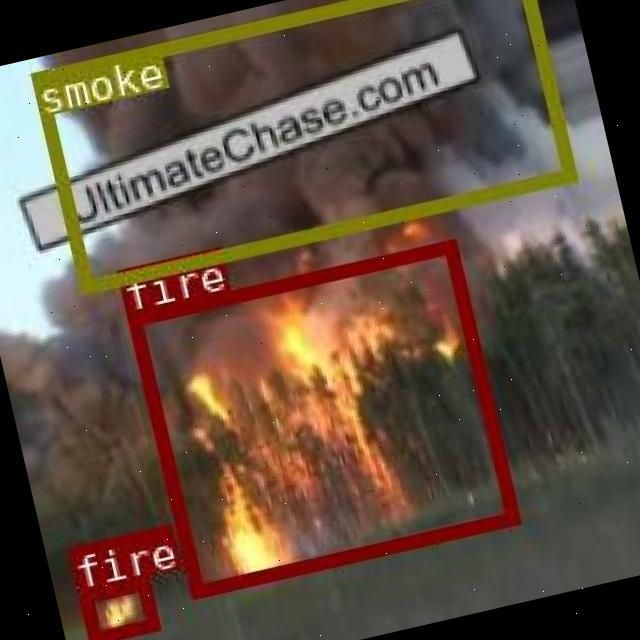fire: (126, 236, 516, 594), (75, 575, 156, 640)
smoke: (29, 0, 574, 293)
